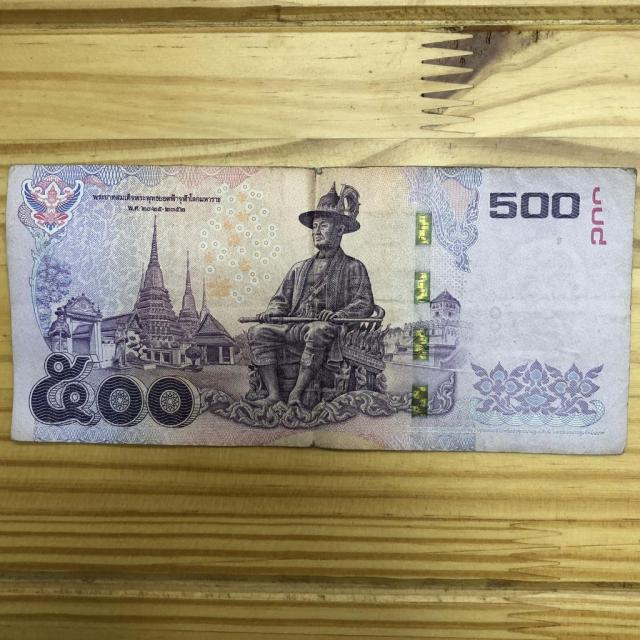THAI500: (8, 166, 636, 454)
